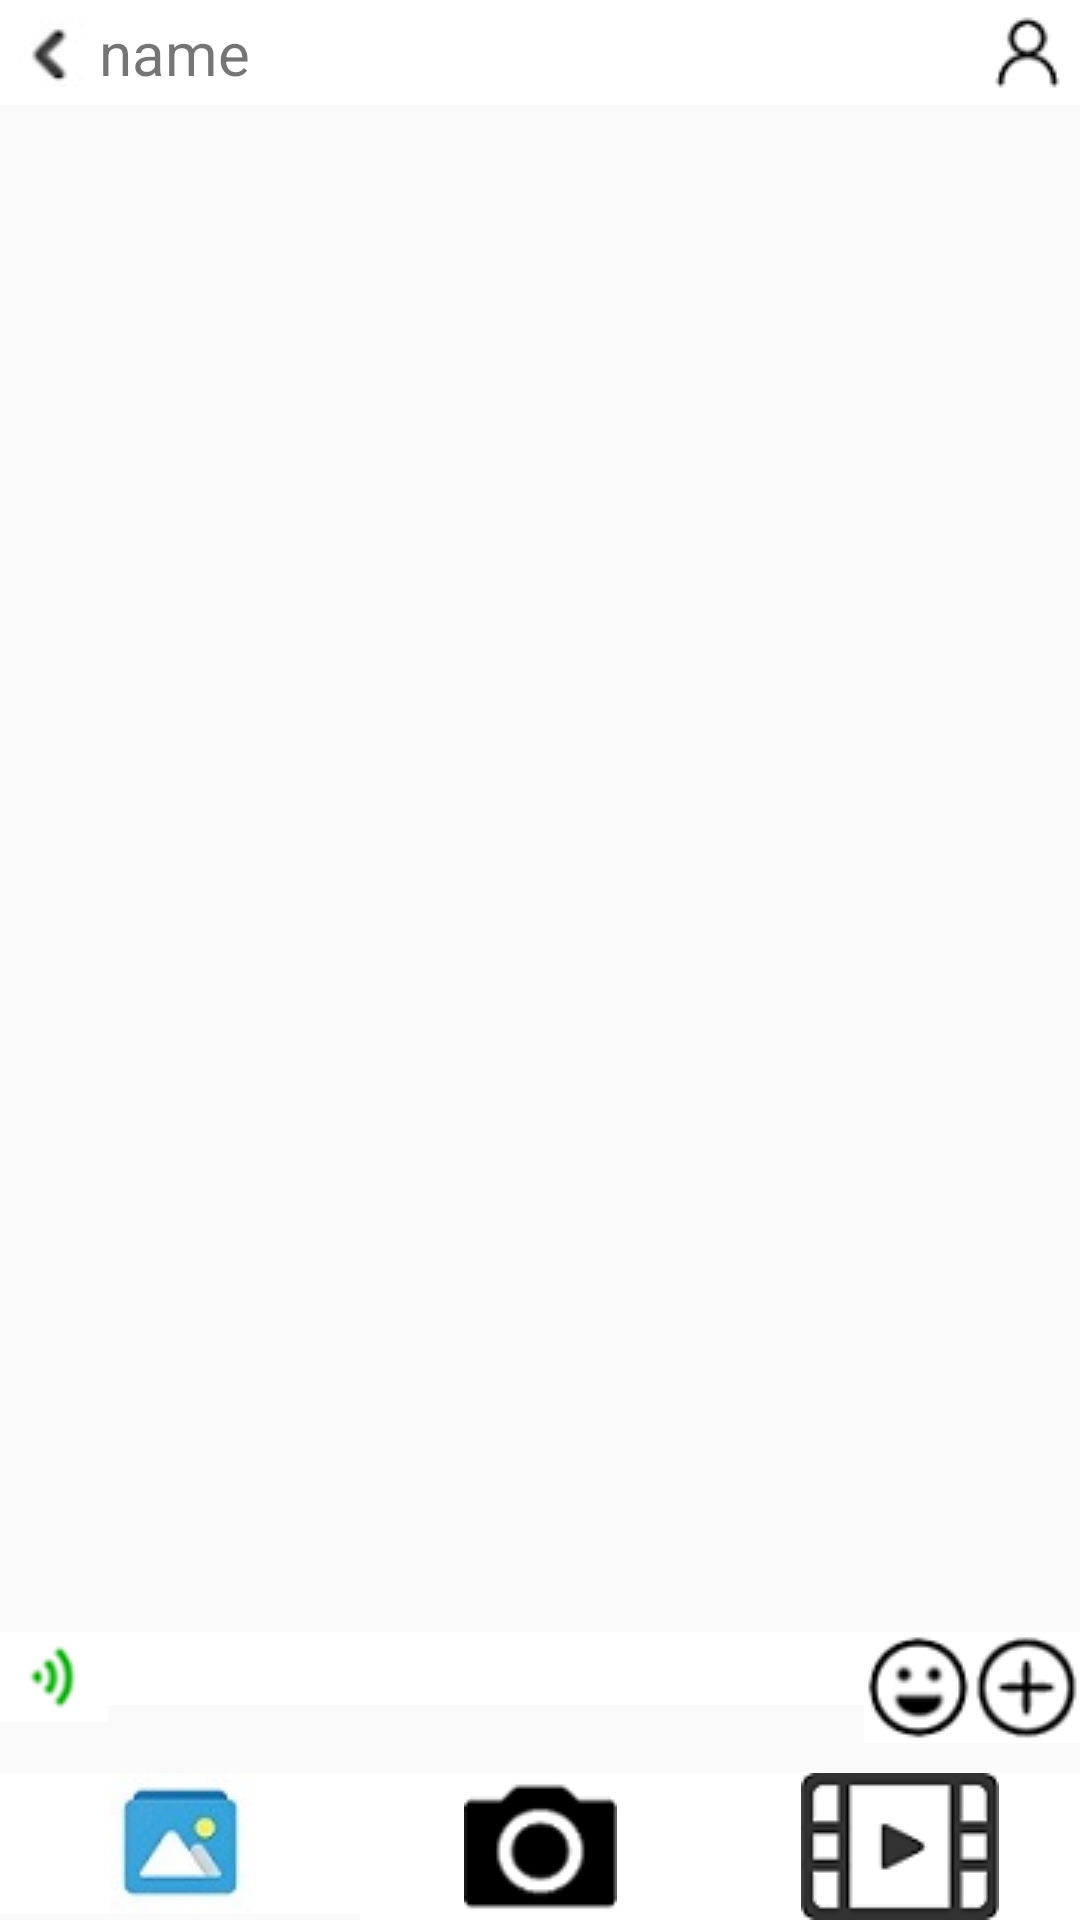

Point at icon controls on the screen. Image size 1080px x 1920px, points as [x,y].
camera: [540,1846]
plus: [1026,1687]
titleleft: [49,55]
video: [900,1846]
voice: [53,1677]
